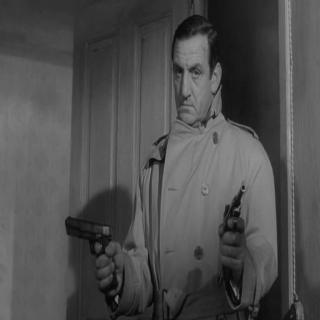gun: (62, 212, 119, 294), (220, 178, 246, 279)
